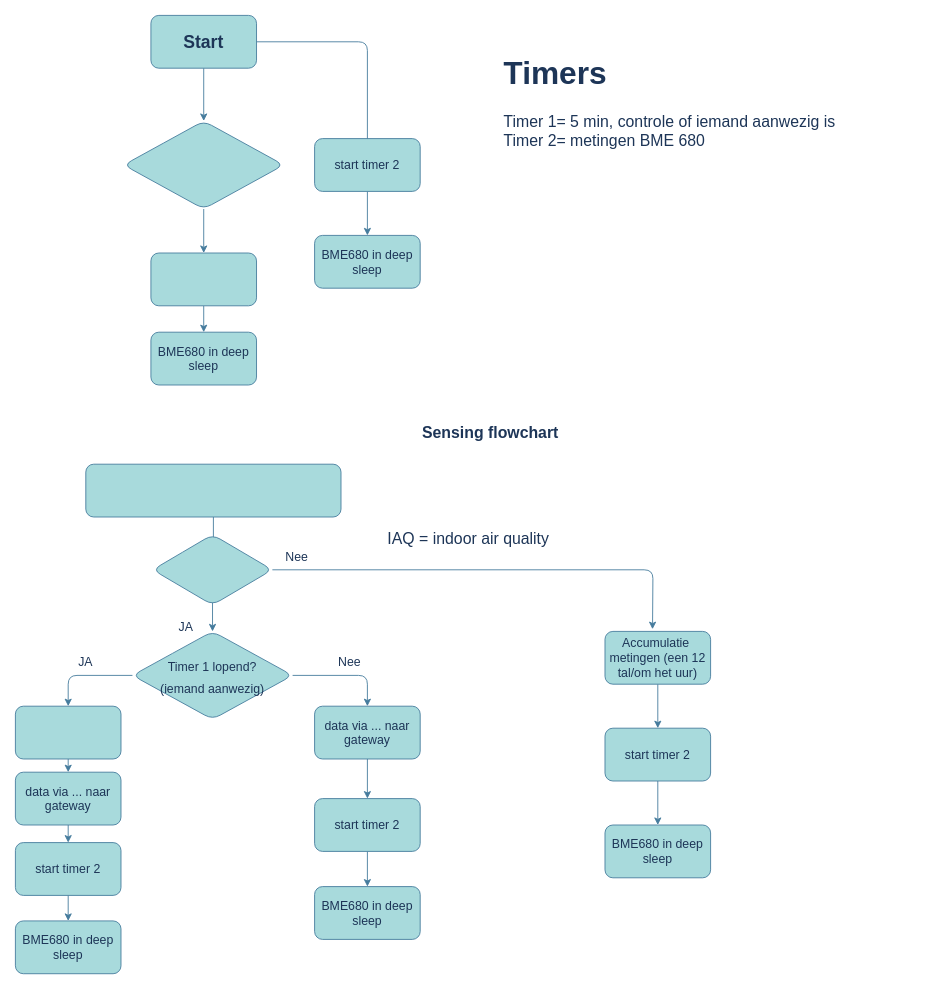
This 936x989 diagram has some shape labels left out. Here are the shapes that lost their labels. From the top down, the box of each, then its label:
(123, 120, 284, 209): Mens detectie werkend via interrupt
(150, 252, 257, 306): Timer1 reset 5min
(85, 463, 341, 517): interupt timer meting BME680 (Ultra low power)
(152, 534, 272, 605): is IAQ > 125
(15, 705, 121, 759): Alarm via buzzer
